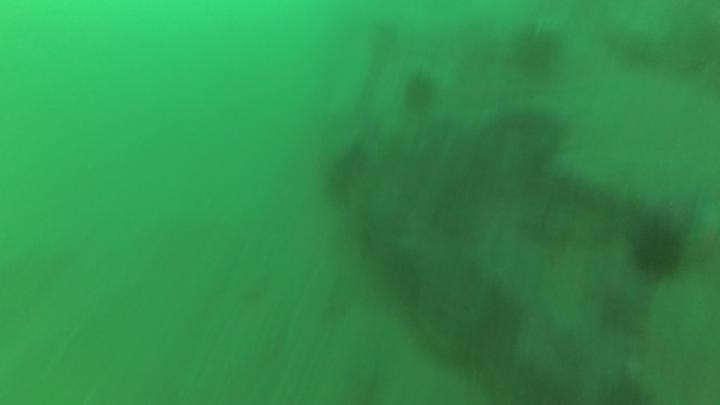echinus: (629, 213, 689, 286), (403, 72, 434, 118)
